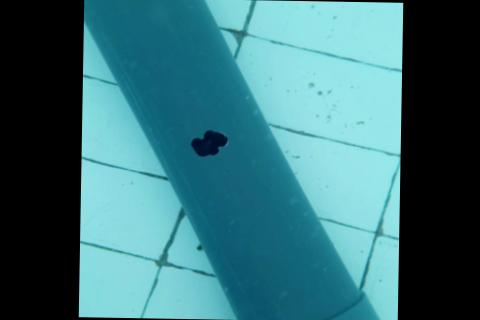kebocoran: (188, 130, 229, 159)
